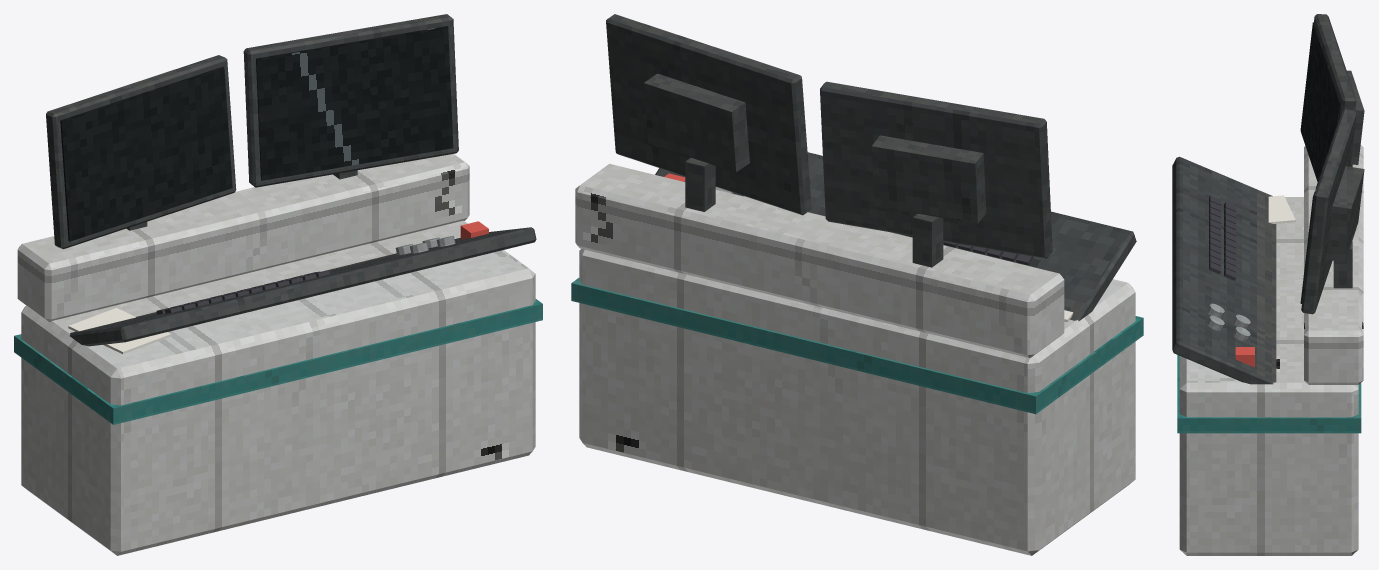
Rendered from control_console.glb.
The picture shows the model from 3 angles, left to right: view 1: azimuth 30°, elevation 25°; view 2: azimuth 150°, elevation 25°; view 3: azimuth 270°, elevation 25°; orthographic projection. The views are drawn at different scales.
Parts seen in each view (by area): view 1: body, screens_dead; view 2: body; view 3: body, screens_dead.
Boxes of the visible parts, x1,y1,x2,y2 form: body: (14, 14, 542, 555); screens_dead: (60, 26, 453, 241); body: (571, 14, 1143, 555); body: (1172, 14, 1364, 555); screens_dead: (1300, 22, 1341, 303).
Size of the model in its own units: 1.92 by 1.66 by 0.8041.
9 materials, 6 textured.
